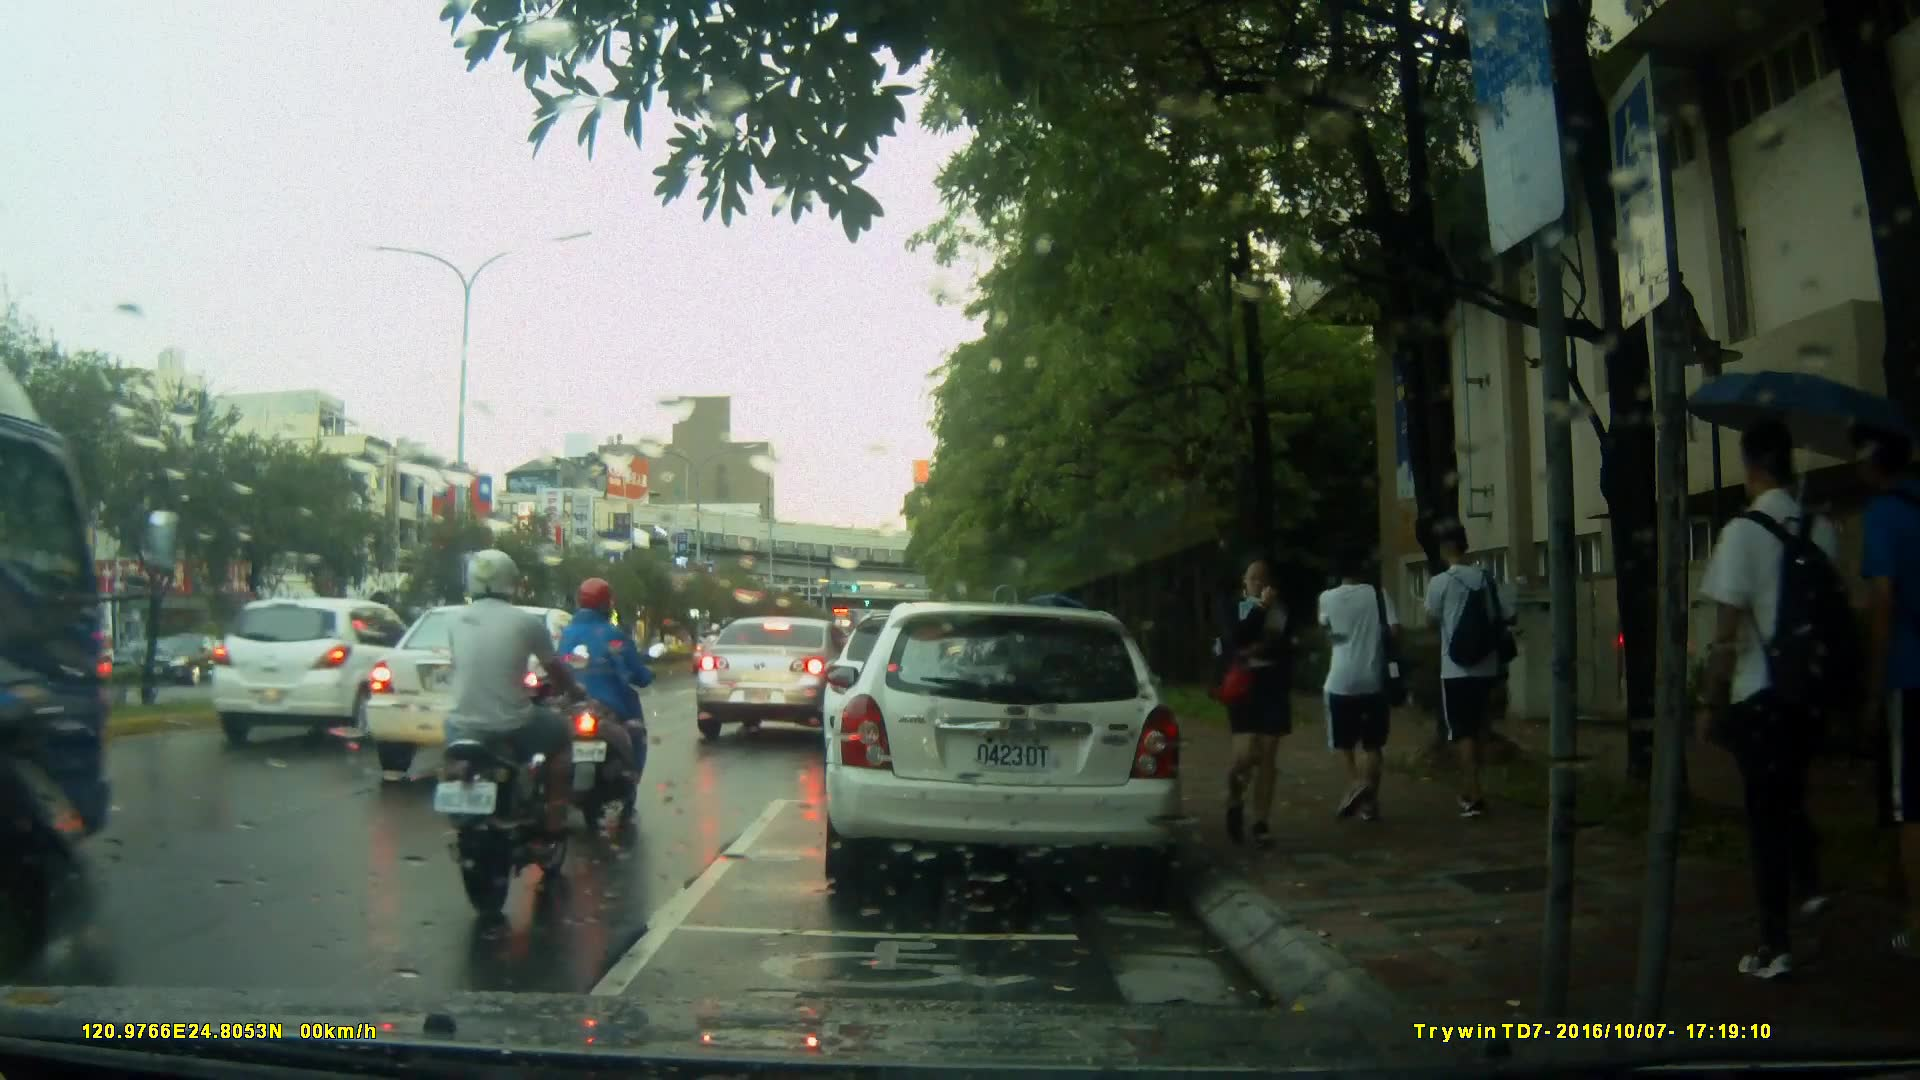pedestrian: (1690, 407, 1842, 980), (1835, 405, 1917, 965), (1413, 517, 1515, 834), (1225, 559, 1317, 857), (1297, 549, 1388, 831)
rider: (444, 547, 581, 903), (550, 579, 666, 819), (710, 617, 743, 705)
vehicle: (820, 602, 1188, 898), (352, 602, 635, 788), (209, 595, 436, 753), (690, 614, 884, 743)
